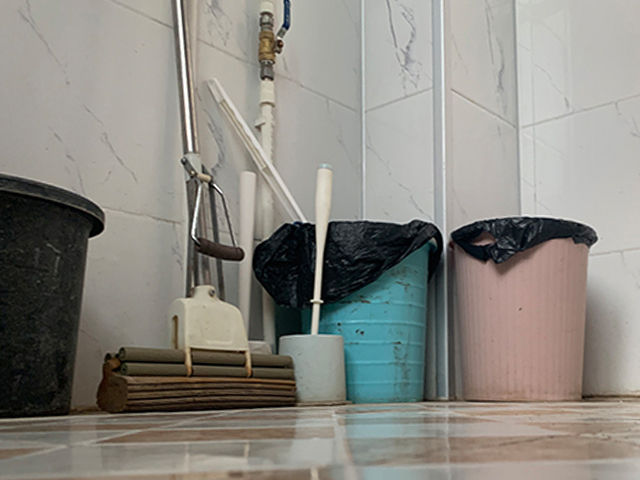trashcan: (449, 216, 598, 402), (300, 219, 444, 405)
